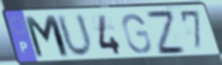4: (97, 13, 122, 56)
7: (178, 9, 204, 54)
G: (121, 13, 153, 55)
M: (22, 14, 73, 61)
U: (54, 12, 95, 60)
Z: (144, 10, 189, 57)
